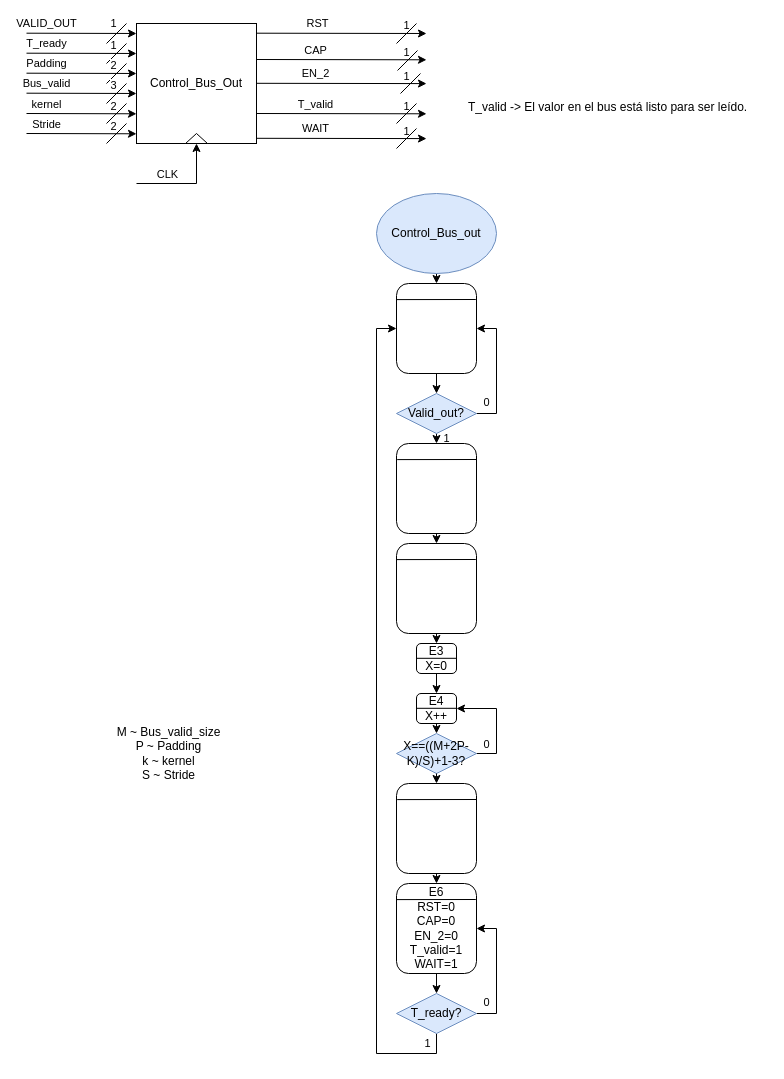
Image size: 784x1079. Some labels were removed from this diagram. Each missing label, with the box of its shape:
E1 RST=0 CAP=1 EN_2=0 T_valid=0 WAIT=0: (396, 442, 476, 534)
E2 RST=0 CAP=1 EN_2=1 T_valid=0 WAIT=0: (396, 542, 476, 634)
E5 RST=0 CAP=0 EN_2=0 T_valid=0 WAIT=1: (396, 782, 476, 874)
ini RST=1 CAP=0 EN_2=0 T_valid=0 WAIT=0: (396, 282, 476, 374)
